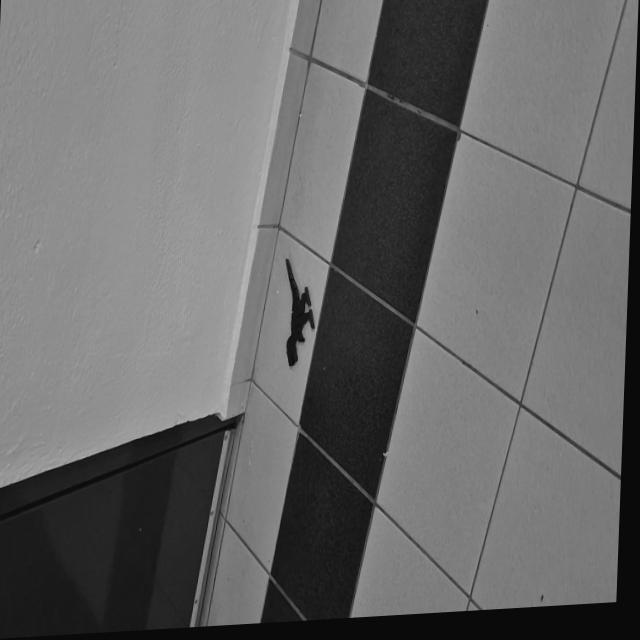dino: (280, 256, 317, 368)
